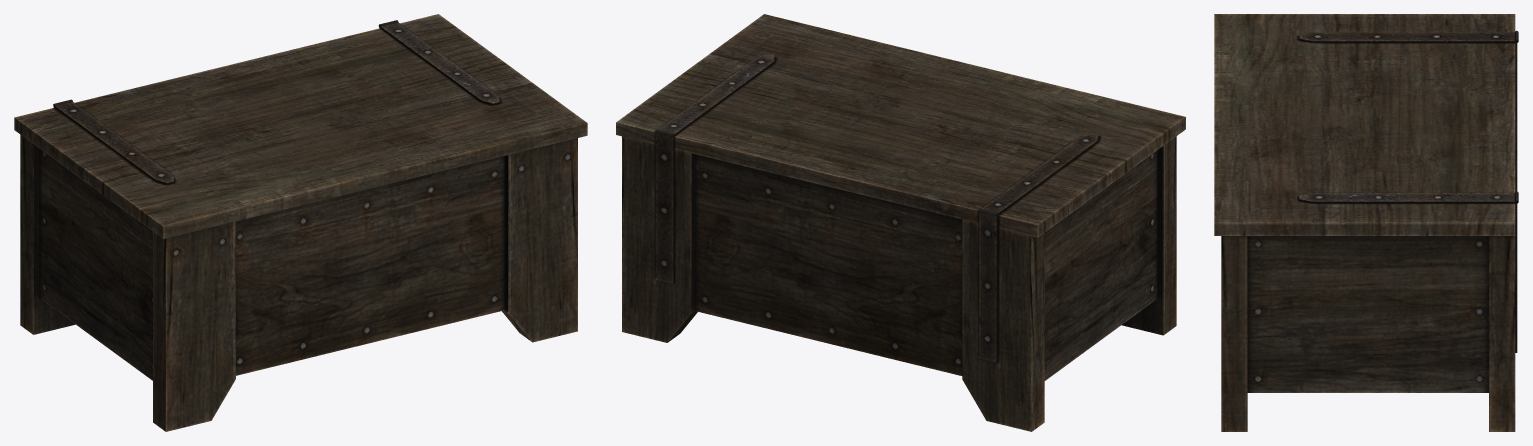
File: Chest.fbx
3 renders of one model, left to right at view 1: azimuth 30°, elevation 25°; view 2: azimuth 150°, elevation 25°; view 3: azimuth 270°, elevation 25°, orthographic.
Parts seen in each view (by area): view 1: default3; view 2: default3; view 3: default3.
Part boxes in pixels (x1,y1,x2,y2): default3: (14,14,587,431); default3: (616,14,1185,431); default3: (1214,14,1518,431).
Size of the model in its own units: 5.53 by 2.65 by 3.4.
